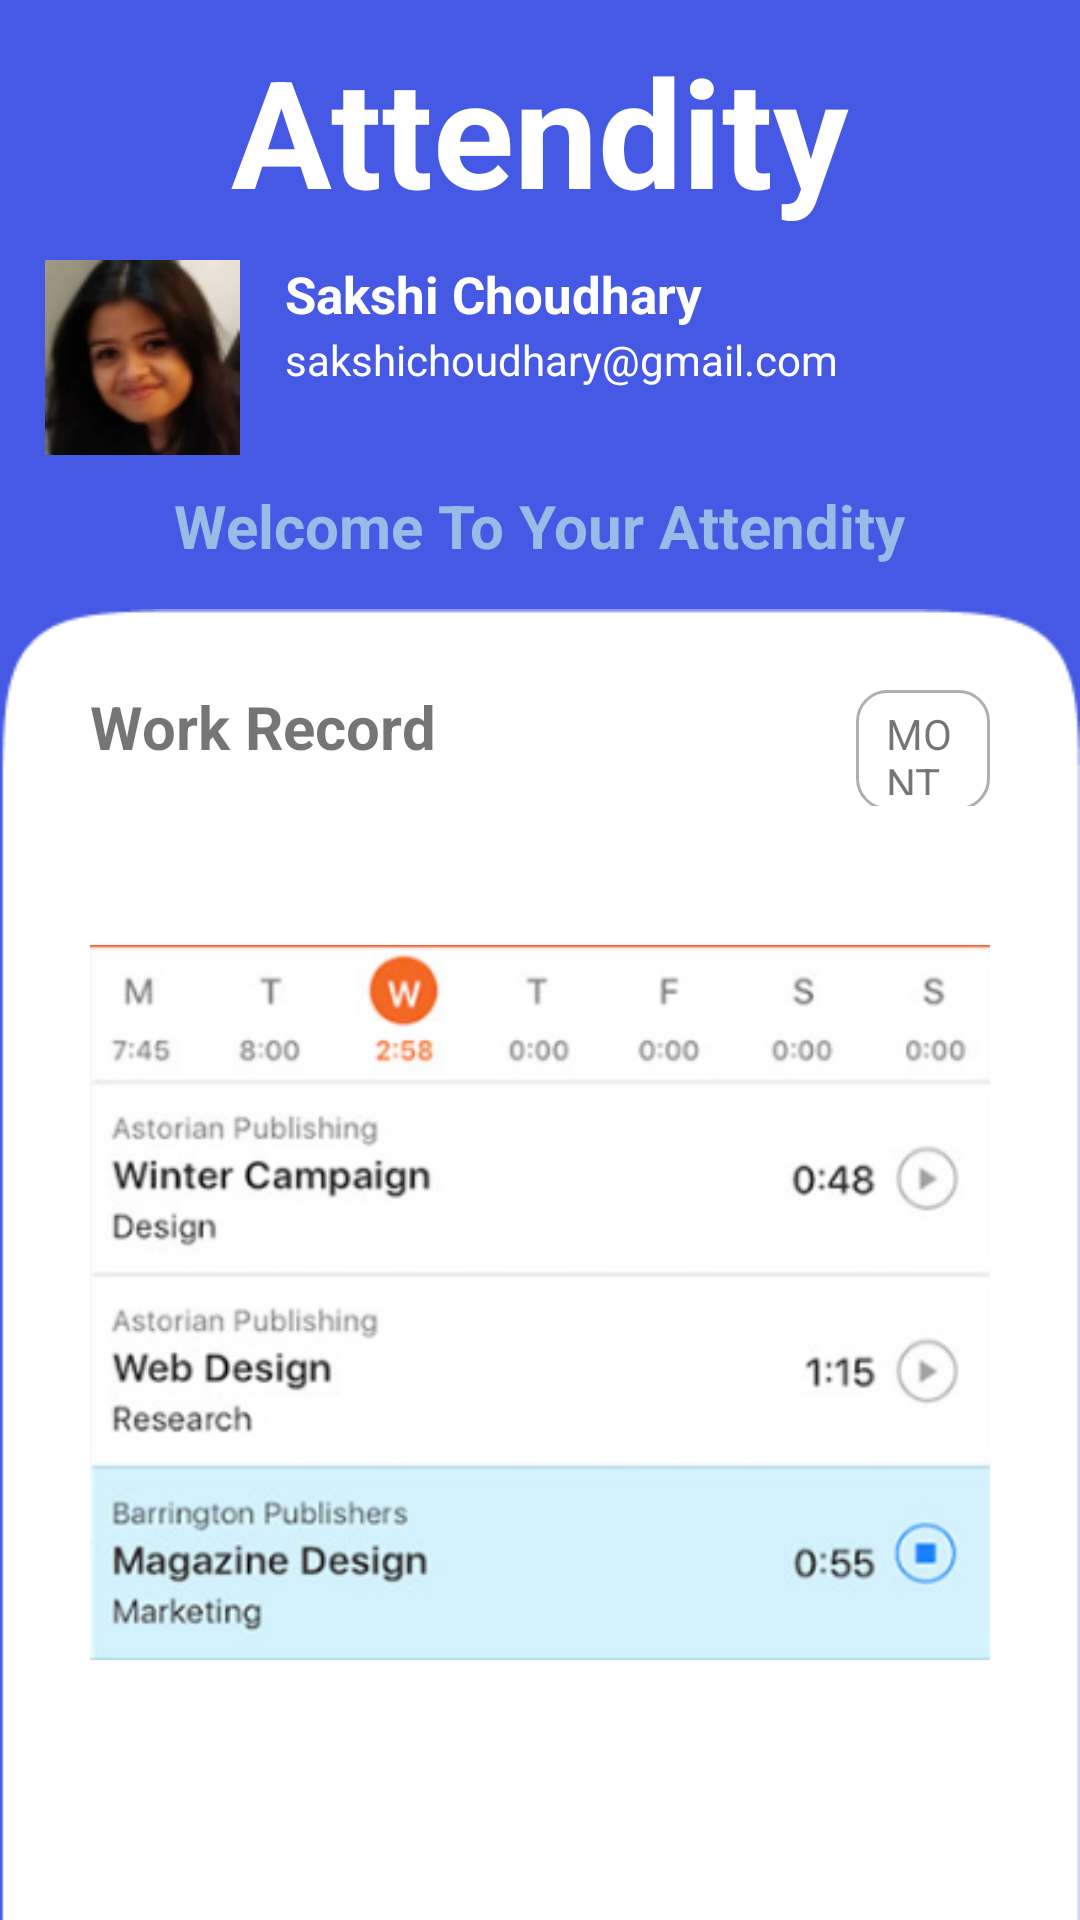

Icon click points for this 1080px×1920px phone screenshot, format point (x, y):
profile: point (142, 357)
